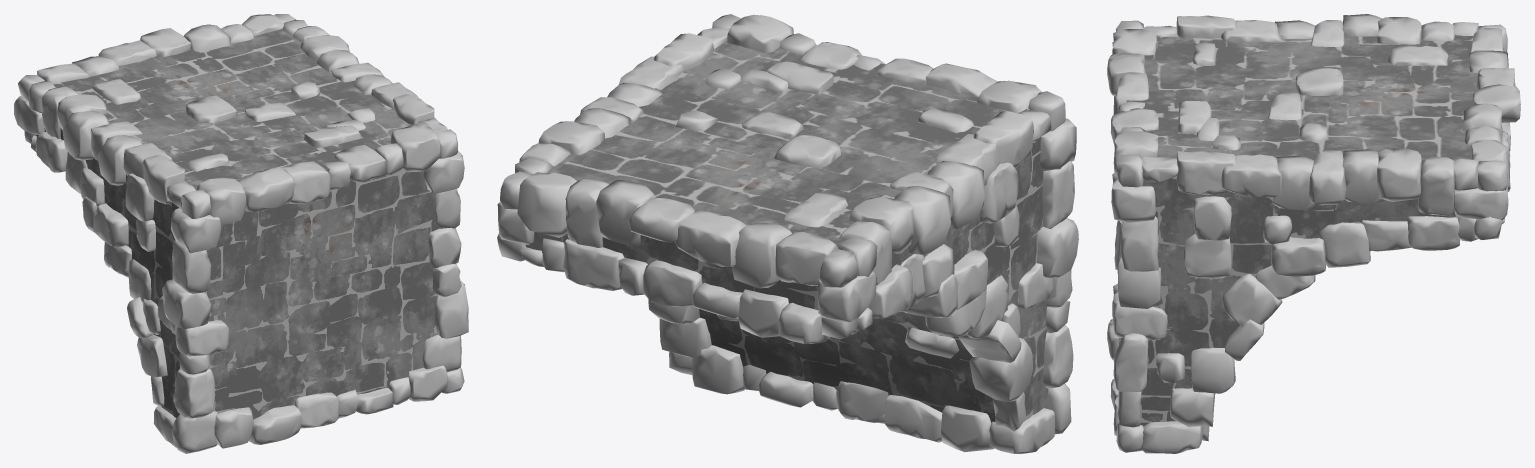
The model's file is Plateau.fbx.
3 renders of one model, left to right at view 1: azimuth 30°, elevation 25°; view 2: azimuth 150°, elevation 25°; view 3: azimuth 270°, elevation 25°, orthographic. The views are drawn at different scales.
Visible parts, largest first — view 1: Plateau.001, rocks; view 2: rocks, Plateau.001; view 3: rocks, Plateau.001.
Part boxes in pixels (x1,y1,x2,y2): Plateau.001: [36, 28, 439, 419]; rocks: [14, 14, 468, 453]; rocks: [497, 14, 1078, 453]; Plateau.001: [525, 40, 1048, 422]; rocks: [1107, 14, 1520, 453]; Plateau.001: [1126, 28, 1478, 426].
Size of the model in its own units: 5.59 by 4.87 by 6.15.
